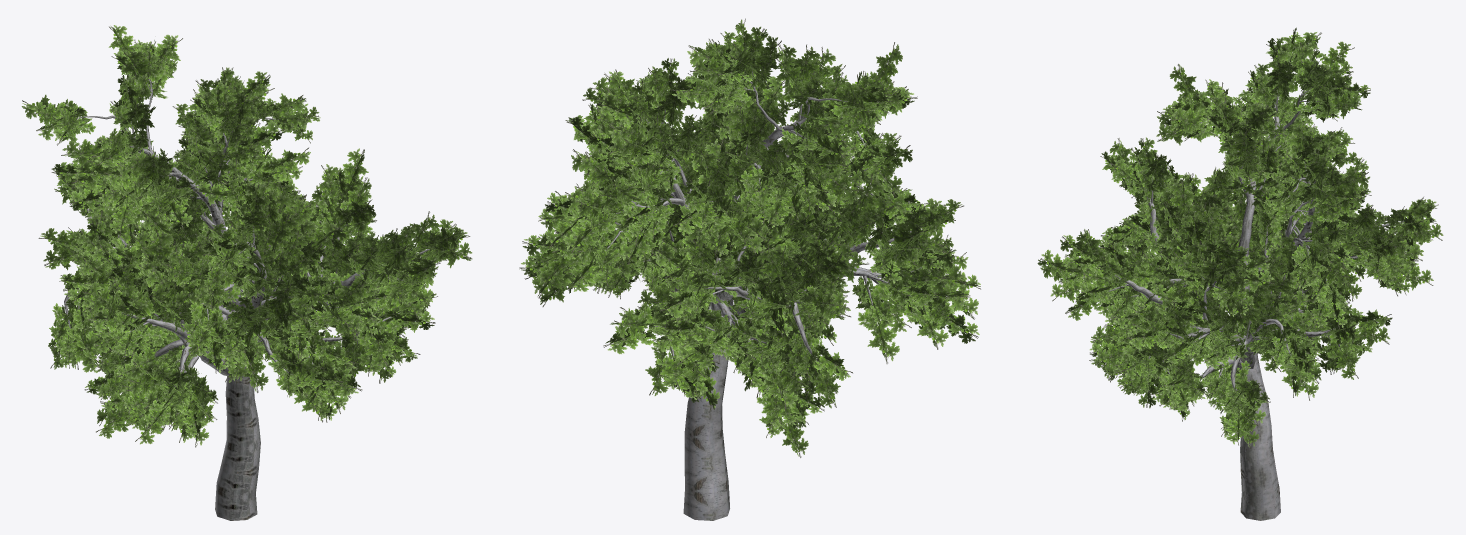
The model's file is eztree-american-sycamore-damp-c.glb.
3 renders of one model, left to right at view 1: azimuth 30°, elevation 25°; view 2: azimuth 150°, elevation 25°; view 3: azimuth 270°, elevation 25°, orthographic. The views are drawn at different scales.
Parts seen in each view (by area): view 1: eztree-american-sycamore-damp-c; view 2: eztree-american-sycamore-damp-c; view 3: eztree-american-sycamore-damp-c.
Boxes of the visible parts, x1,y1,x2,y2 form: eztree-american-sycamore-damp-c: [21, 25, 472, 520]; eztree-american-sycamore-damp-c: [519, 18, 980, 520]; eztree-american-sycamore-damp-c: [1037, 27, 1443, 520].
Bounding box in the file's own units: 65.24 × 77.85 × 67.7.
Materials: 2 (2 with a texture image).
